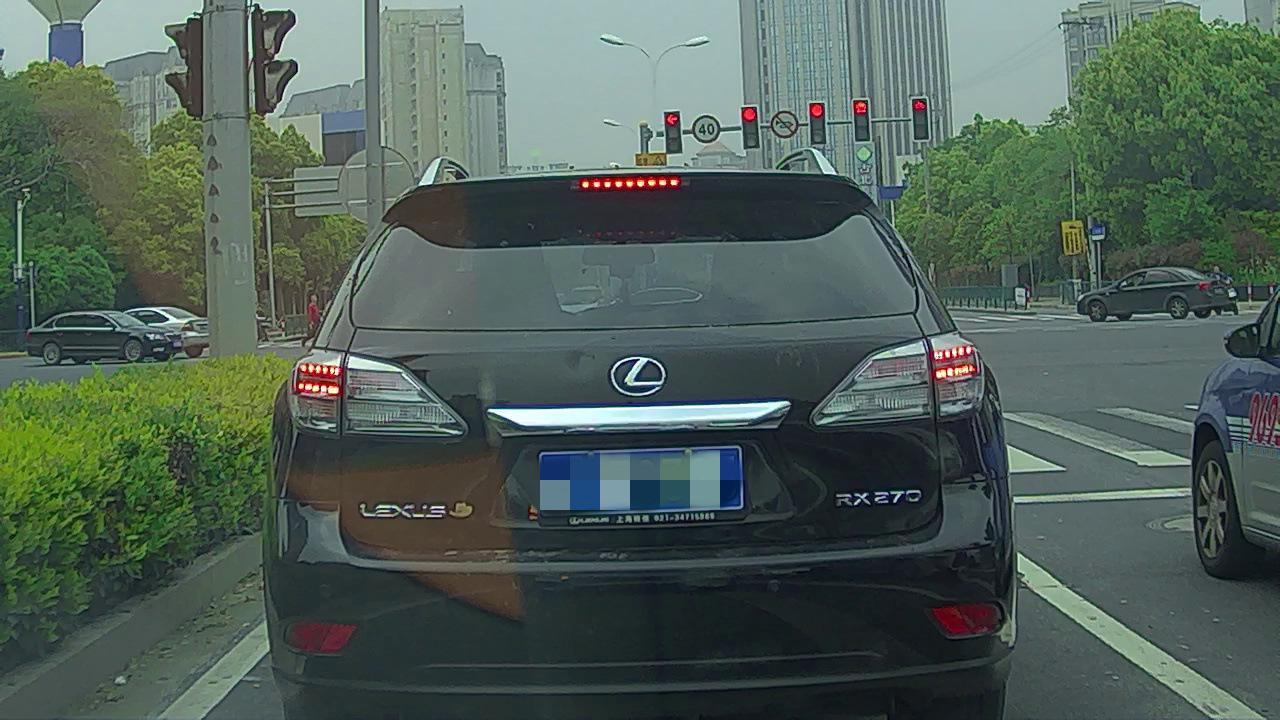traffic_light: (741, 107, 761, 149), (664, 112, 683, 154), (853, 98, 871, 142), (809, 102, 827, 144), (913, 98, 930, 141)
